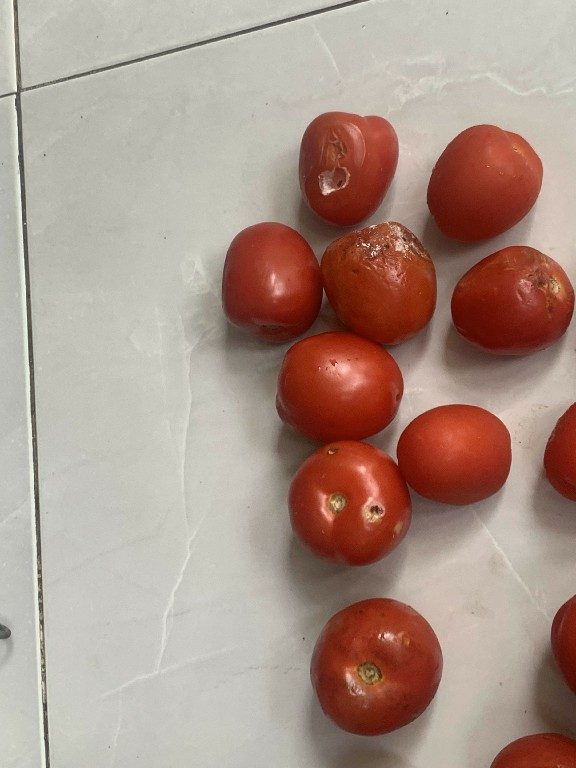NG: (280, 439, 417, 570), (447, 243, 575, 364), (320, 220, 440, 346), (296, 108, 404, 221)
OK: (307, 595, 448, 734), (425, 119, 543, 242), (275, 330, 411, 436), (218, 214, 323, 346), (393, 402, 515, 507)
